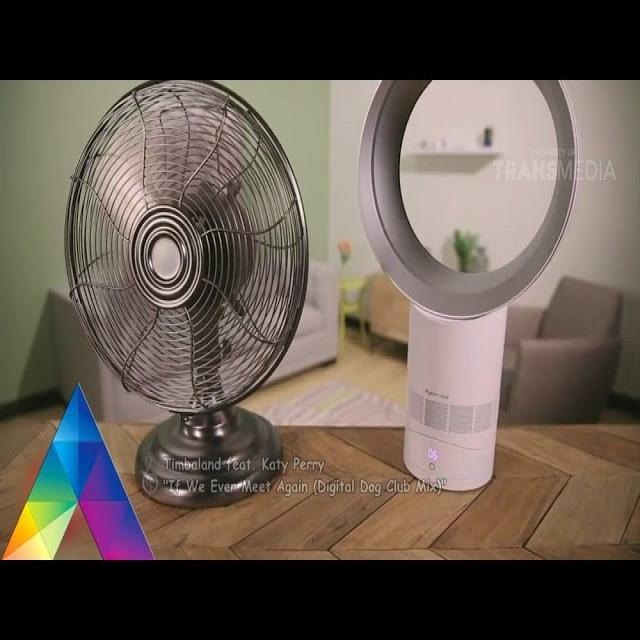fan: (66, 79, 312, 508)
